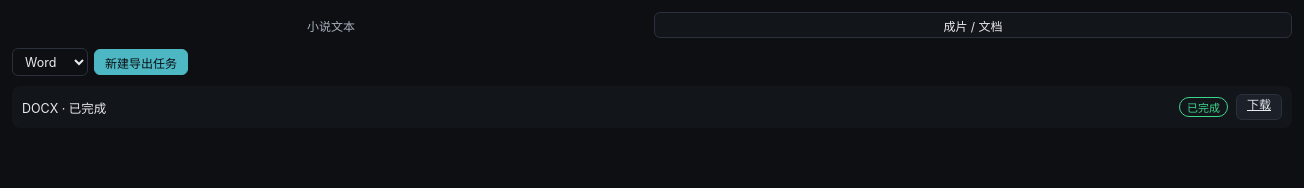
ExportBody › render tab lists /exports and creates with POST
Expected: the link "下载" is shown, [1236,94,1282,120]
Select "PDF" in the dropdown named "成片导出格式" at coordinates (50, 62), box [12,48,88,76]
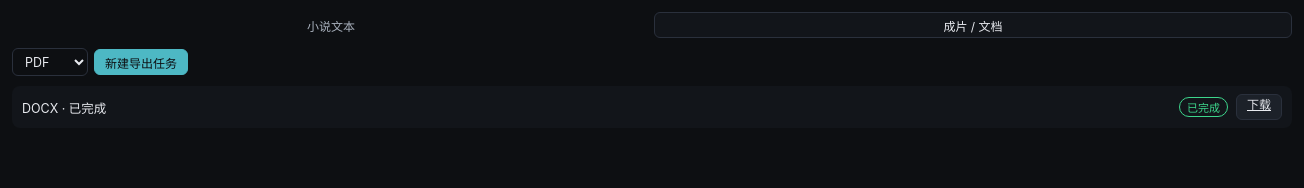
Click the button "新建导出任务" at coordinates (141, 62), box [94,49,188,75]
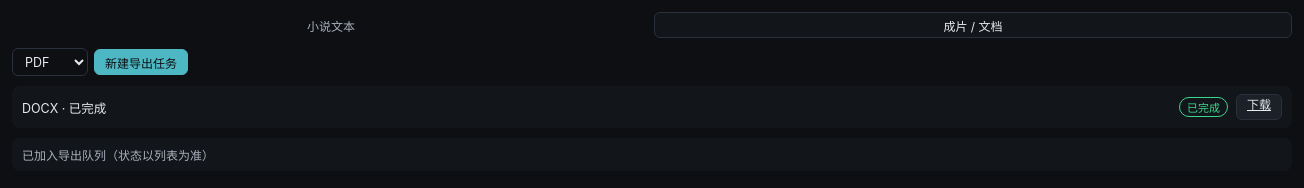
Now the text "已加入导出队列（状态以列表为准）" is shown, box [12,138,1292,171]
